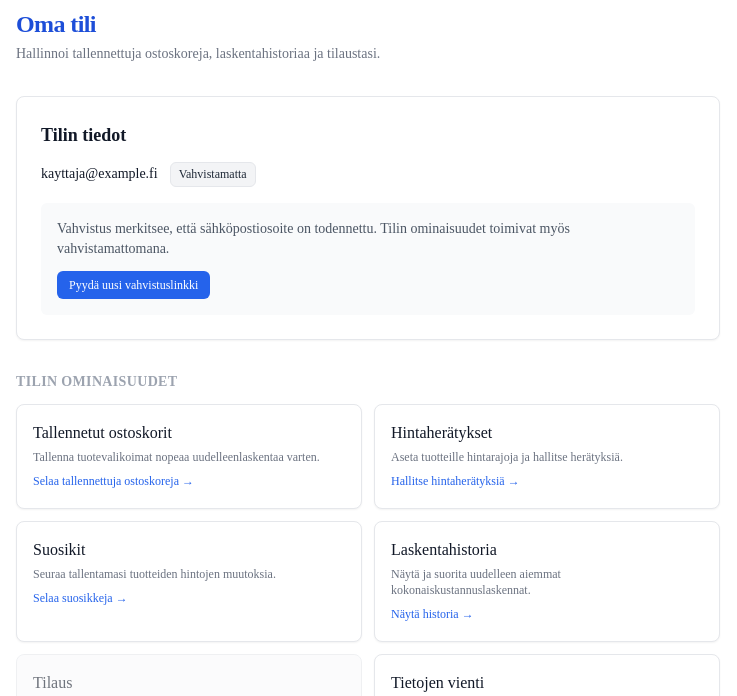
Test: AccountPage › renders the unverified badge and the resend action (status, not lockout)
Expected: the element with test id "account-unverified-badge" reads "Vahvistamatta", [179,167,247,181]
Expected: the link with test id "account-alerts-card" is shown, [374,404,720,509]
Click the button with test id "account-resend-verification" at (134, 285), box [57,271,210,299]
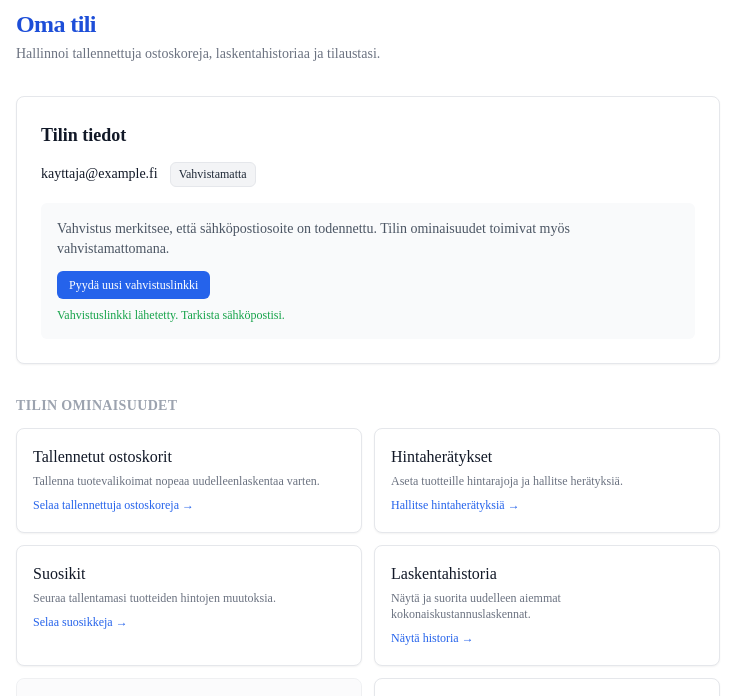
Expected: the text "Vahvistuslinkki lähetetty. Tarkista sähköpostisi." is shown, [57,308,285,322]
